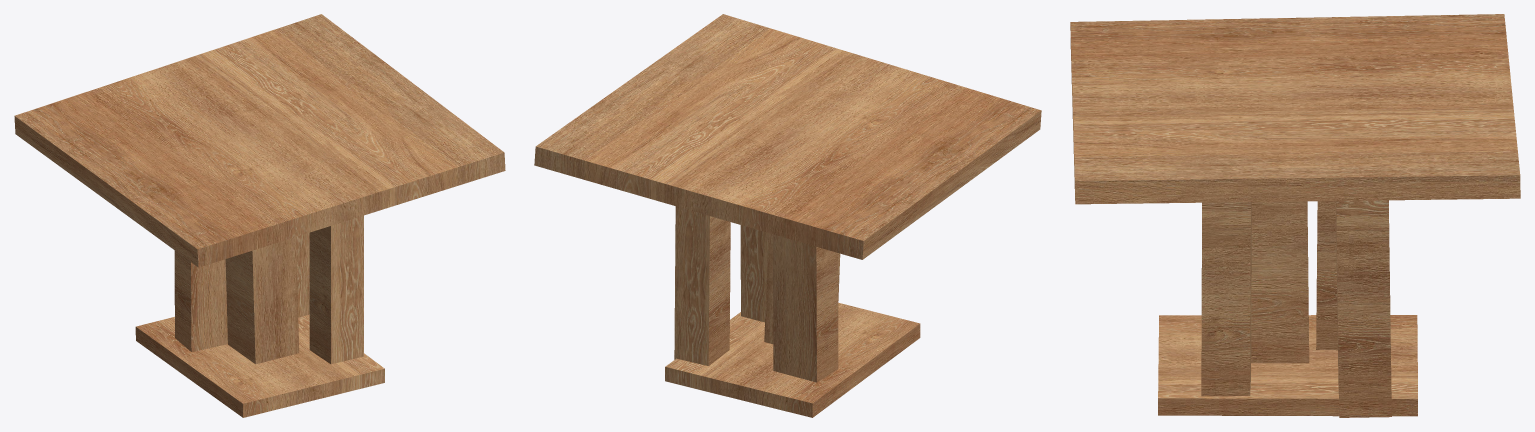
Rendered from 19167_ours.glb.
The picture shows the model from 3 angles, left to right: view 1: azimuth 30°, elevation 25°; view 2: azimuth 150°, elevation 25°; view 3: azimuth 270°, elevation 25°; orthographic projection. The views are drawn at different scales.
Visible parts, largest first — view 1: ParentEmpty; view 2: ParentEmpty; view 3: ParentEmpty.
Part boxes in pixels (x1,y1,x2,y2): ParentEmpty: (14,14,505,417); ParentEmpty: (534,14,1041,417); ParentEmpty: (1070,14,1520,417).
Size of the model in its own units: 0.9825 by 0.7164 by 1.
Materials: 1 (1 with a texture image).
